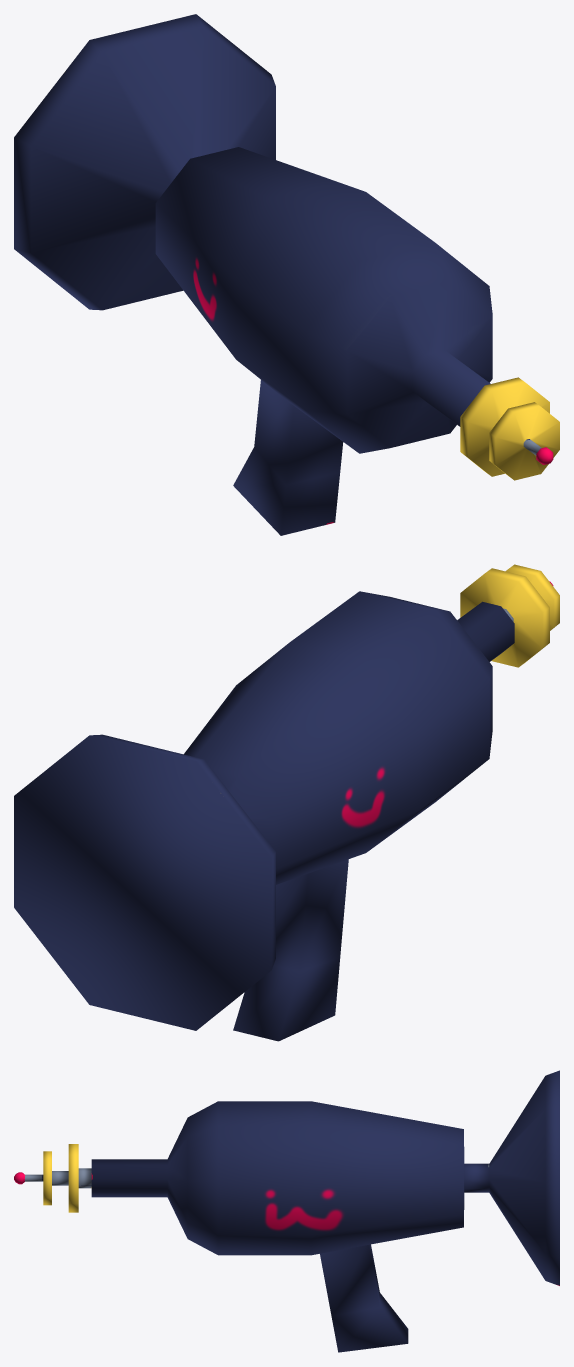
Rendered from raygun.glb.
3 renders of one model, top to bottom at view 1: azimuth 30°, elevation 25°; view 2: azimuth 150°, elevation 25°; view 3: azimuth 270°, elevation 25°, orthographic. The views are drawn at different scales.
Visible parts, largest first — view 1: Cube; view 2: Cube; view 3: Cube.
Part boxes in pixels (box(x1,y1,x2,y2)): Cube: box(14, 14, 559, 535); Cube: box(14, 564, 559, 1041); Cube: box(14, 1070, 559, 1352).
Size of the model in its own units: 2.59 by 3.66 by 7.08.
Materials: 1 (1 with a texture image).
